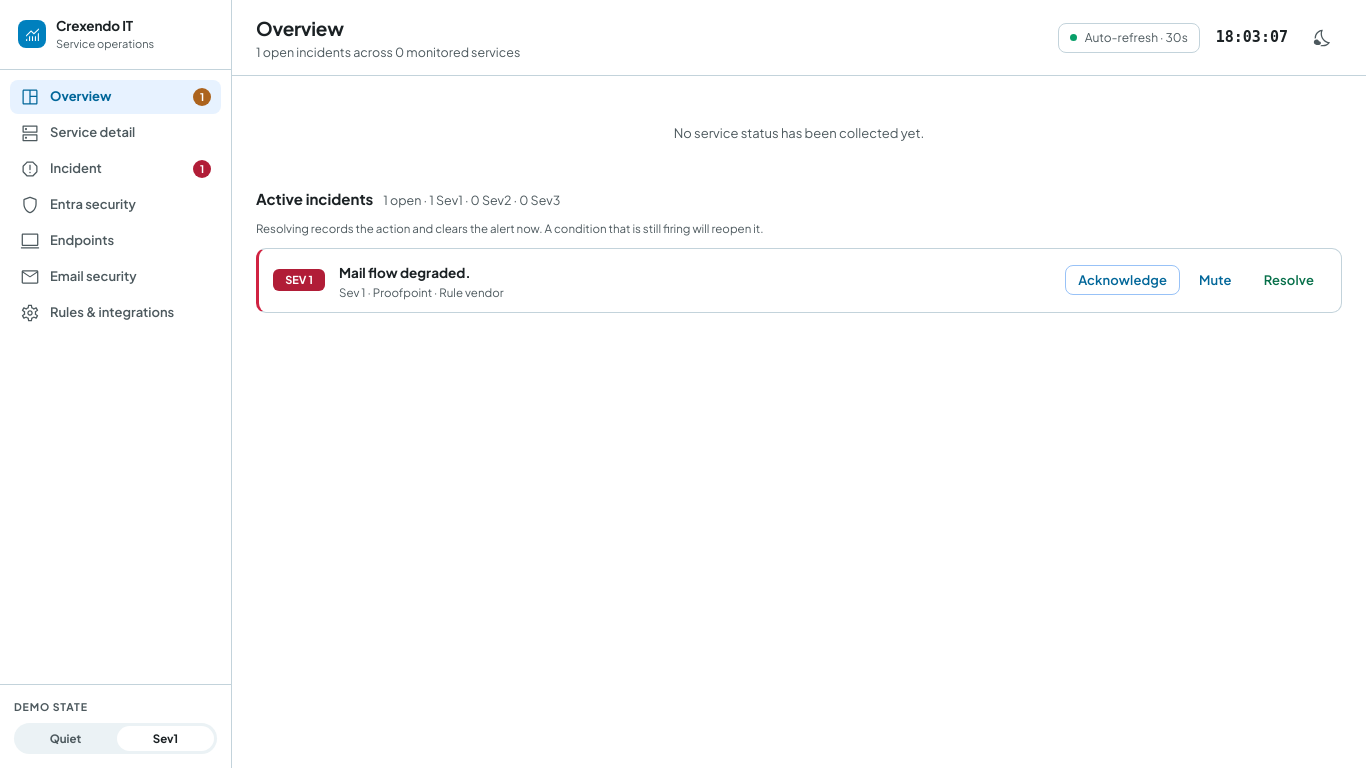
Test: a write that fails does not render as success › is equally unsuccessful when the reply is about a different incident
Expected: the element with test id "alert-row" is shown, top-left (256, 248), bottom-right (1342, 313)
Click the button "Acknowledge".
click(1123, 280)  # box top-left (1065, 265), bottom-right (1180, 295)
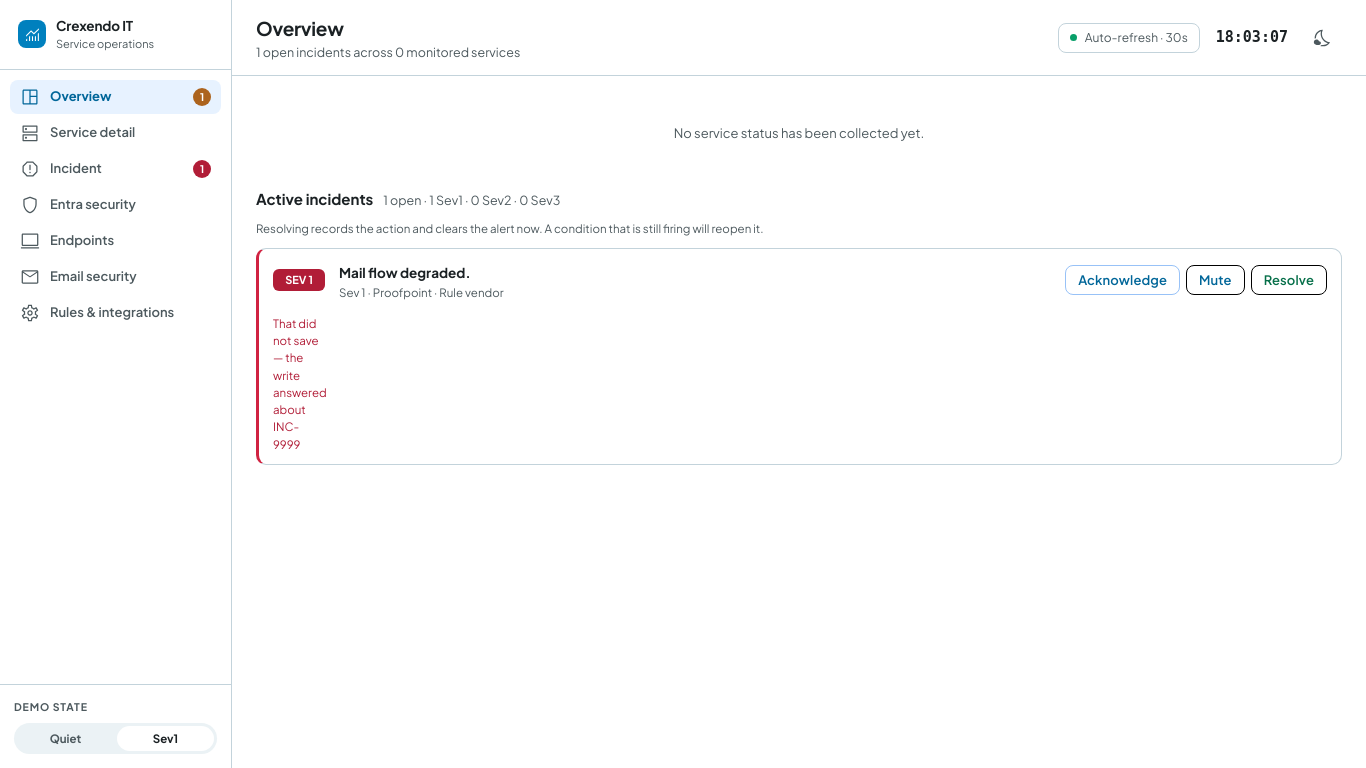
Expected: the message with test id "write-error" shows "INC-9999", top-left (273, 316), bottom-right (327, 452)
